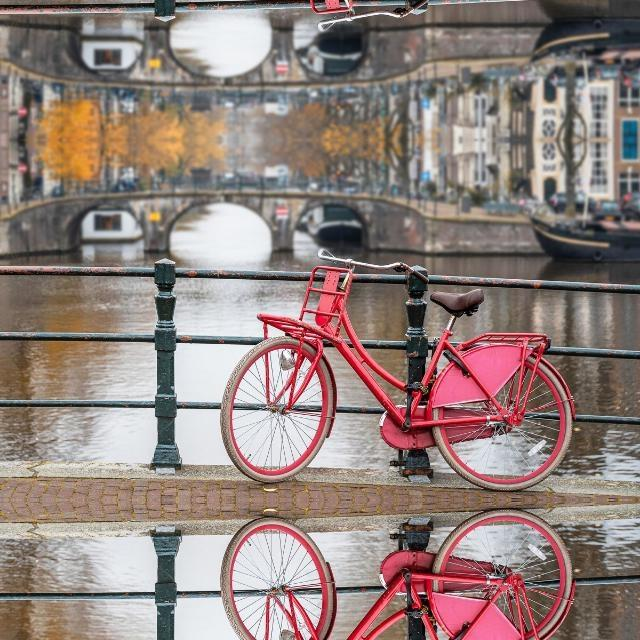obstacle: (222, 242, 584, 488), (222, 512, 584, 640), (222, 0, 584, 38)
